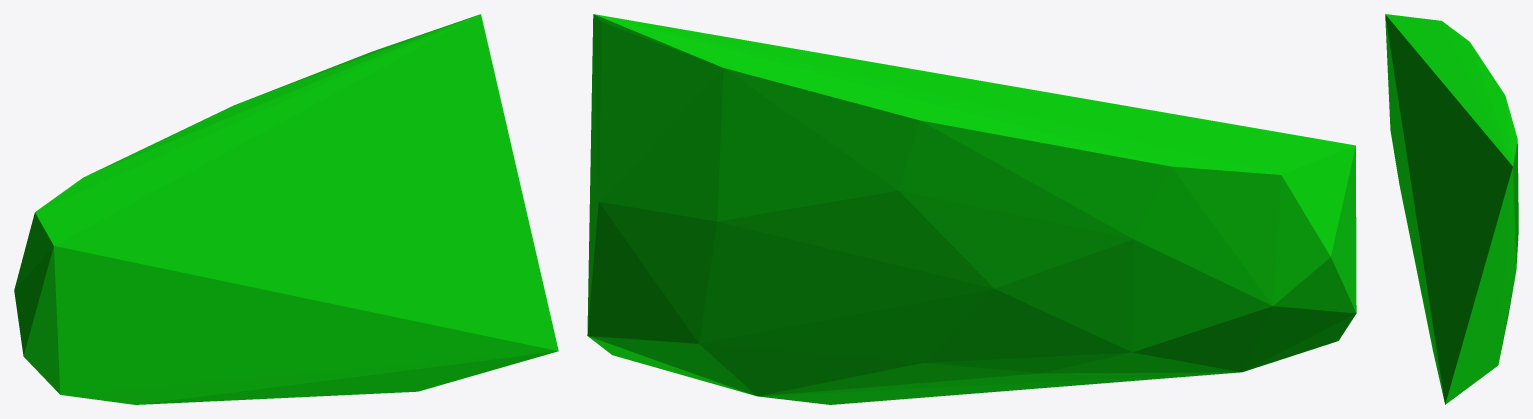
Rendered from shoulder-roll-housing-mirror_convex_piece_005.obj.
3 views of the same model, side by side, from view 1: azimuth 30°, elevation 25°; view 2: azimuth 150°, elevation 25°; view 3: azimuth 270°, elevation 25° (orthographic). The views are drawn at different scales.
Bounding box in the file's own units: 0.0835 × 0.0442 × 0.0236.
